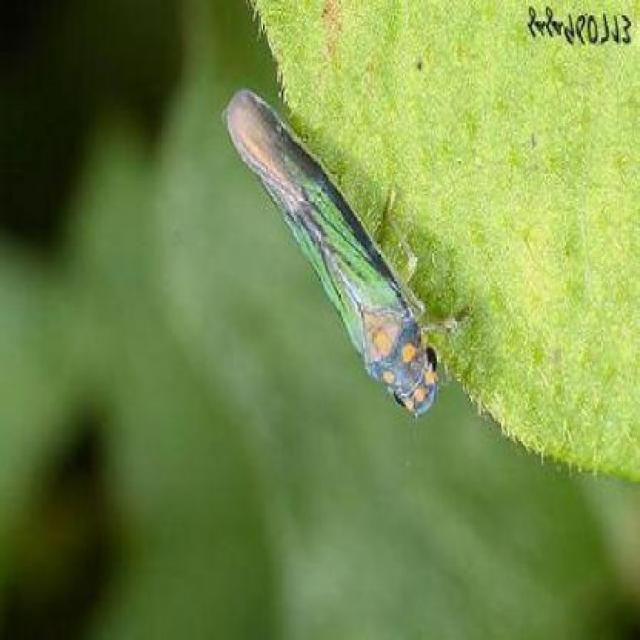green-leafhopper: (215, 86, 470, 418)
